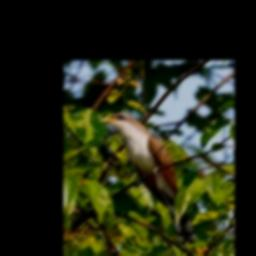Cuckoo: (99, 112, 197, 245)
